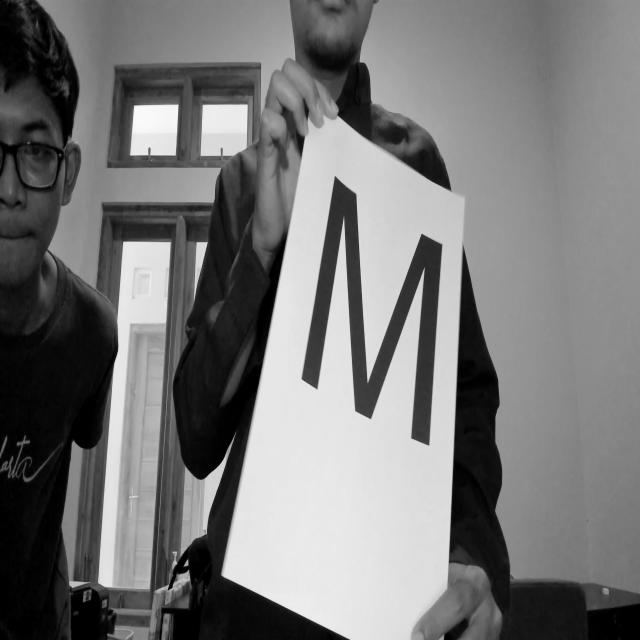m: (297, 172, 456, 468)
